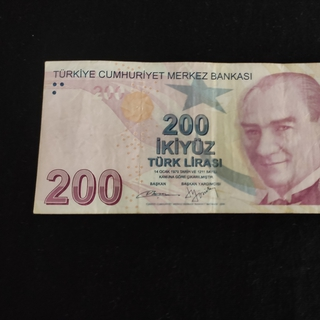200TLFront: (33, 60, 320, 215)
